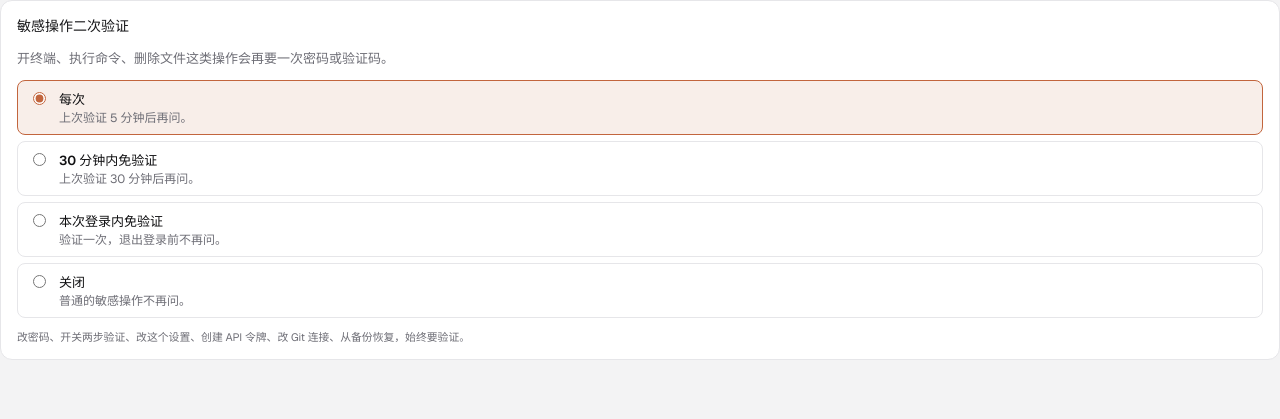
Test: ElevationModeCard › saves the picked mode and warns when it is off
This screenshot has width=1280, height=419.
Check: the radio button labelled "每次 上次验证 5 分钟后再问。" is checked, box [33,92,46,105]
Click the radio button labelled "关闭 普通的敏感操作不再问。" at (40, 282), box [33,275,46,288]
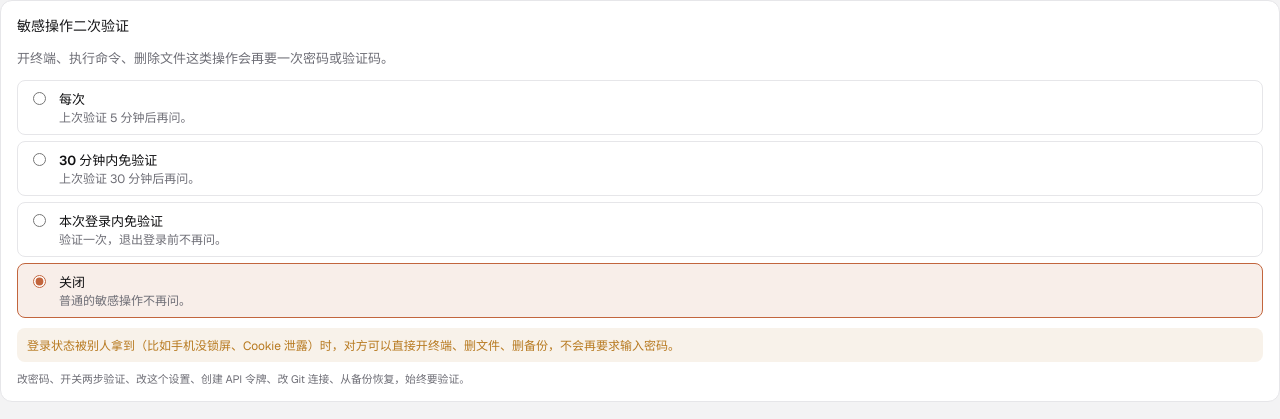
Check: the text "登录状态被别人拿到（比如手机没锁屏、Cookie 泄露）时，对方可以直接开终端、删文件、删备份，不会再要求输入密码。" is shown, box [17,328,1263,362]
